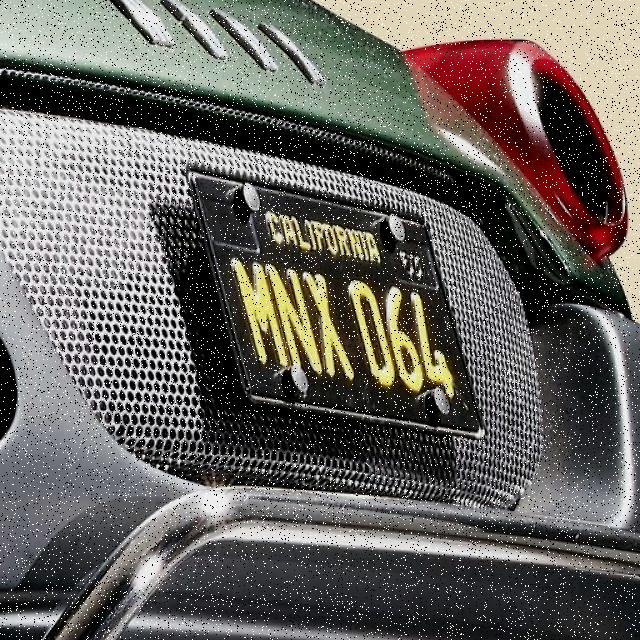licenseplate: (166, 160, 501, 442)
